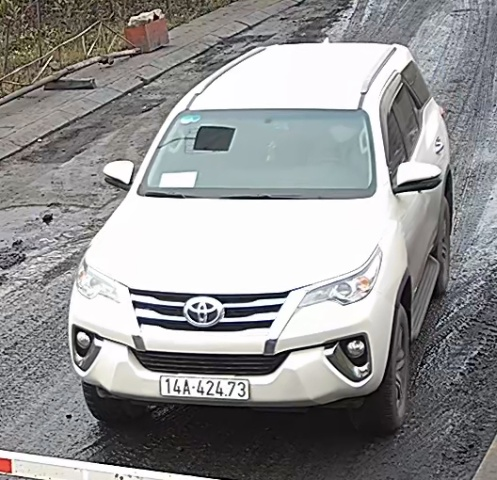vehicle plate: (158, 373, 254, 401)
